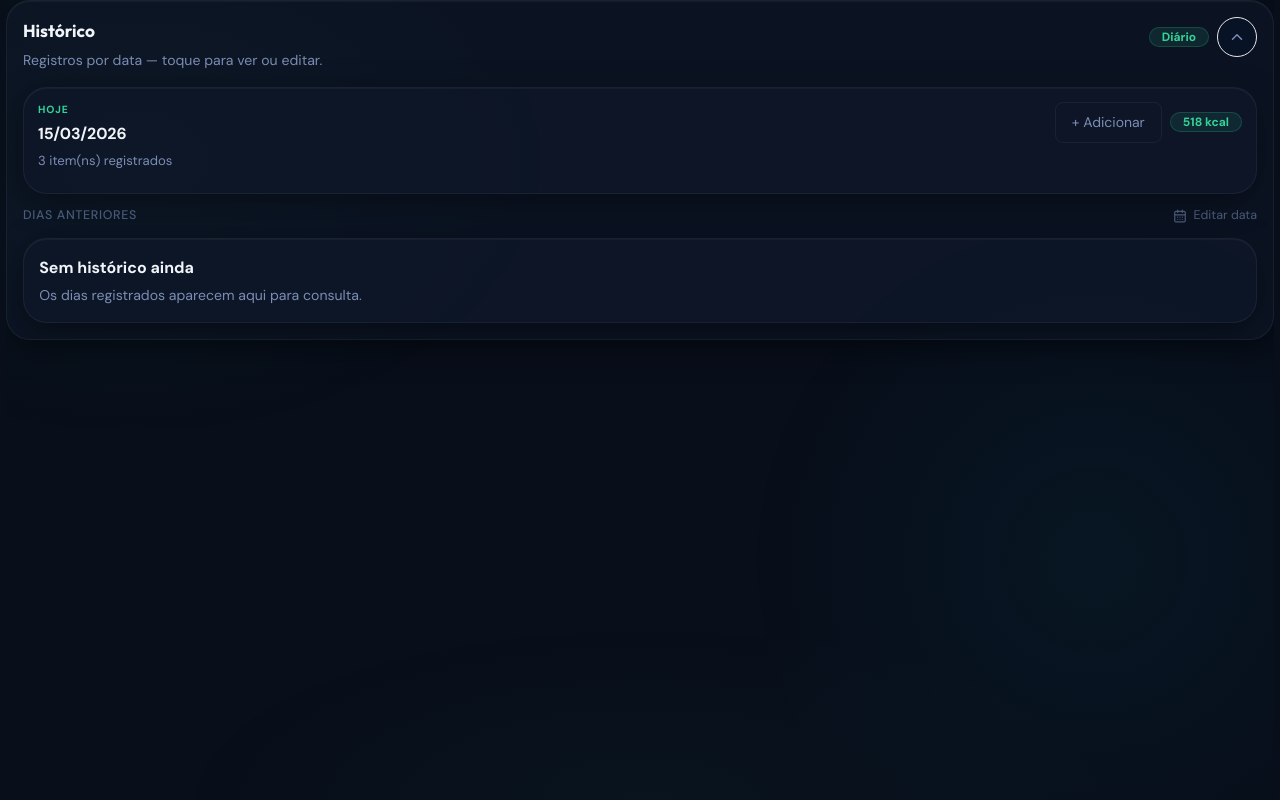
Test case: DiaryPanel › opens RetroactiveDiaryView when today card is clicked
Click the button "15/03/2026" at (53, 110), box top-left (23, 87), bottom-right (1257, 194)
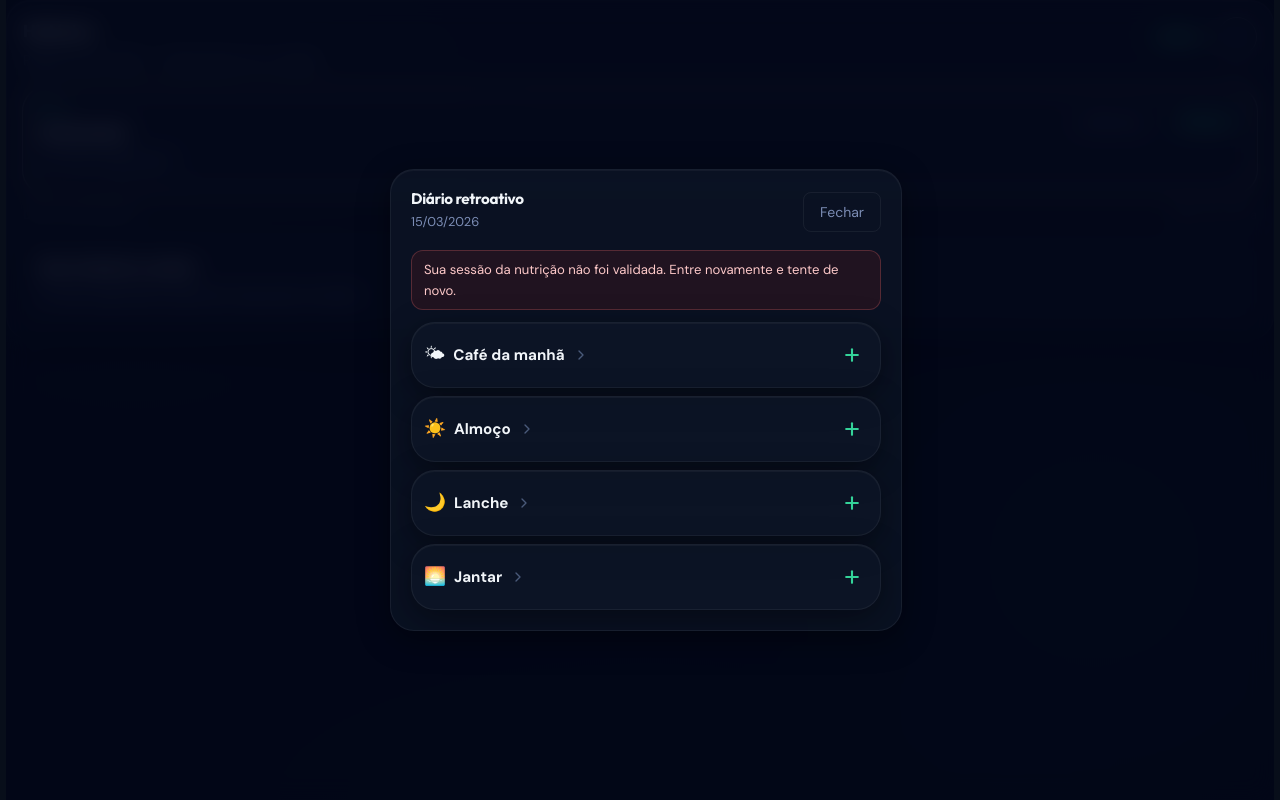
Expected: the heading "Diário retroativo" is shown, top-left (411, 190), bottom-right (524, 208)
